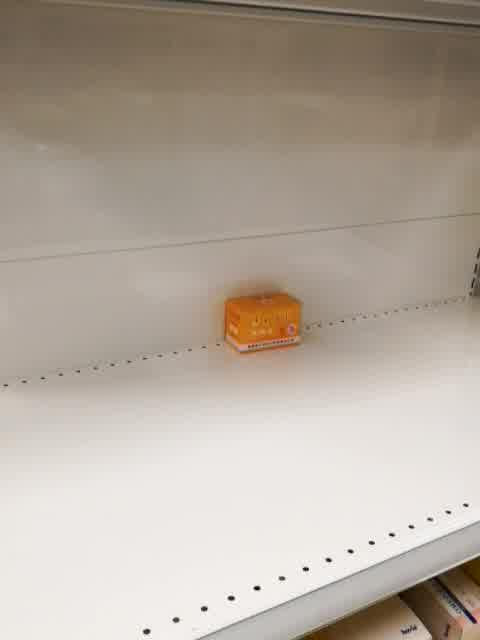jasminetea: (223, 287, 304, 356)
